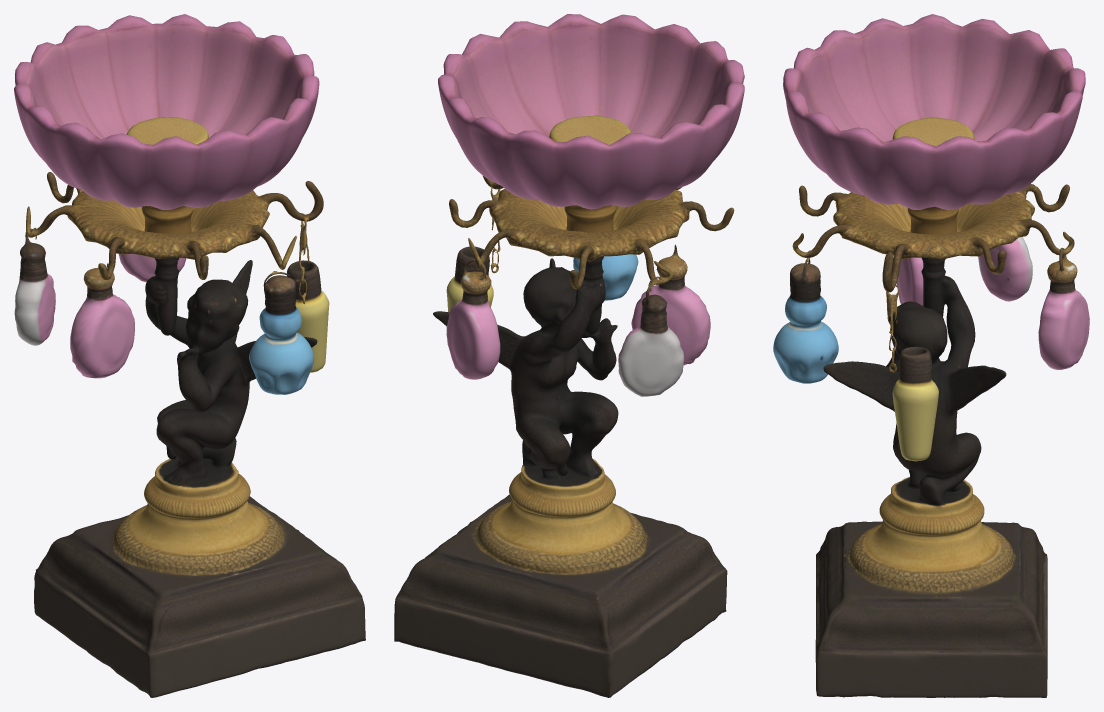
Rendered from 粉色玻璃小天使烛台.glb.
3 renders of one model, left to right at view 1: azimuth 30°, elevation 25°; view 2: azimuth 150°, elevation 25°; view 3: azimuth 270°, elevation 25°, orthographic.
Parts seen in each view (by area): view 1: tripo_node_f8c0c9d0; view 2: tripo_node_f8c0c9d0; view 3: tripo_node_f8c0c9d0.
Boxes of the visible parts, <box> form: tripo_node_f8c0c9d0: <box>14,14,365,697</box>; tripo_node_f8c0c9d0: <box>394,14,744,697</box>; tripo_node_f8c0c9d0: <box>773,14,1089,697</box>.
Size of the model in its own units: 52.12 by 97.96 by 50.47.
Materials: 1 (1 with a texture image).
